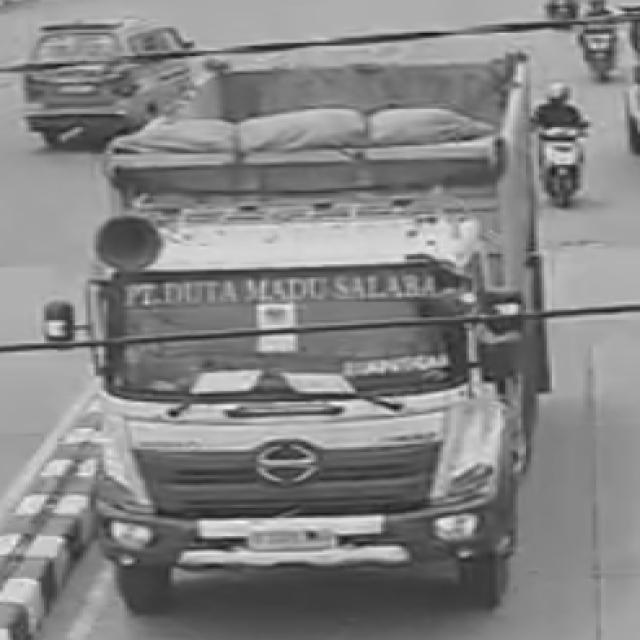Truck: (90, 54, 548, 619)
